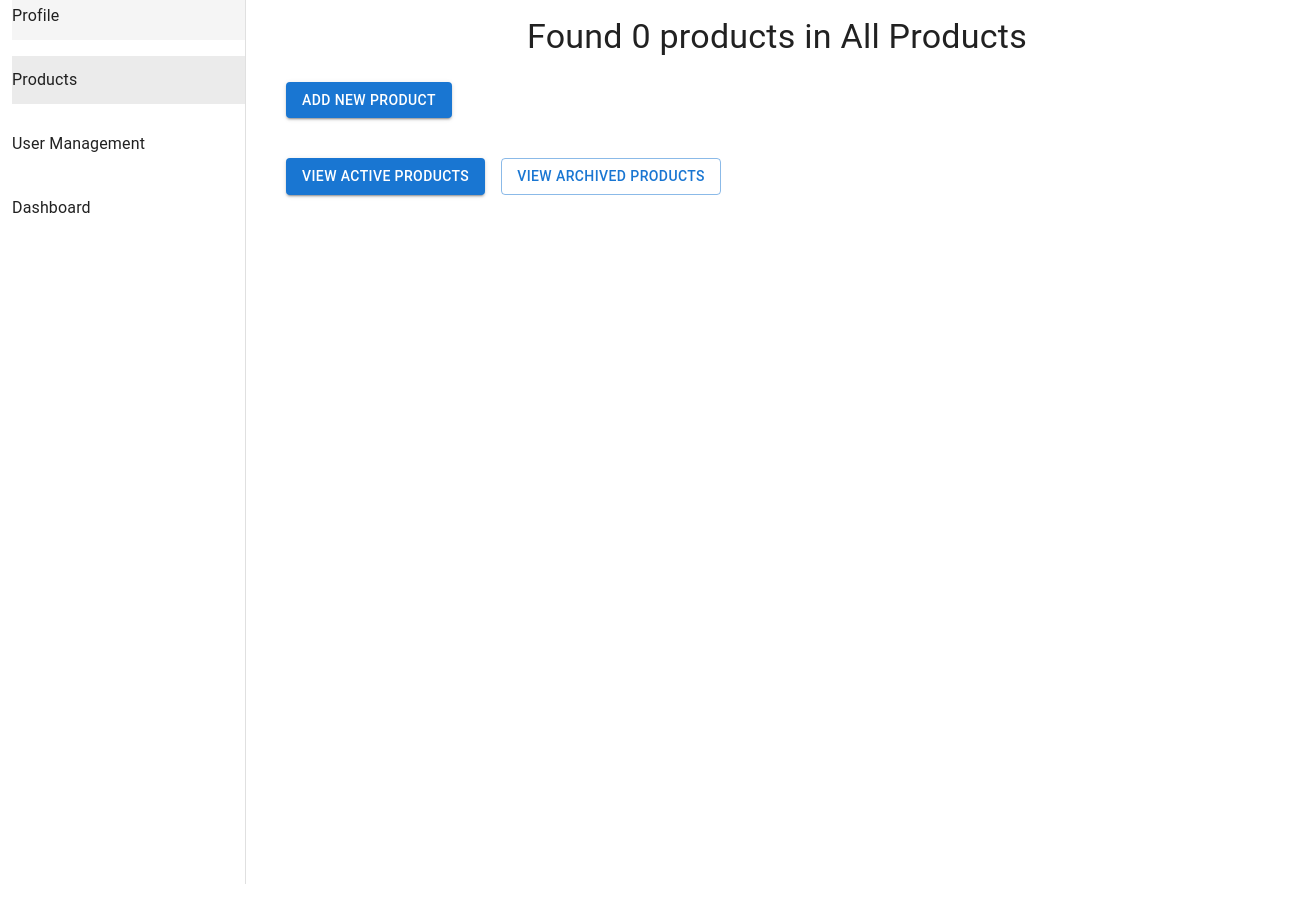
Scenario: add-product-page tests for role: admin › checks if each product type option is rendered after clicking
Click to open form
Click the button "Add New Product" at coordinates (369, 100), box [286, 82, 452, 118]
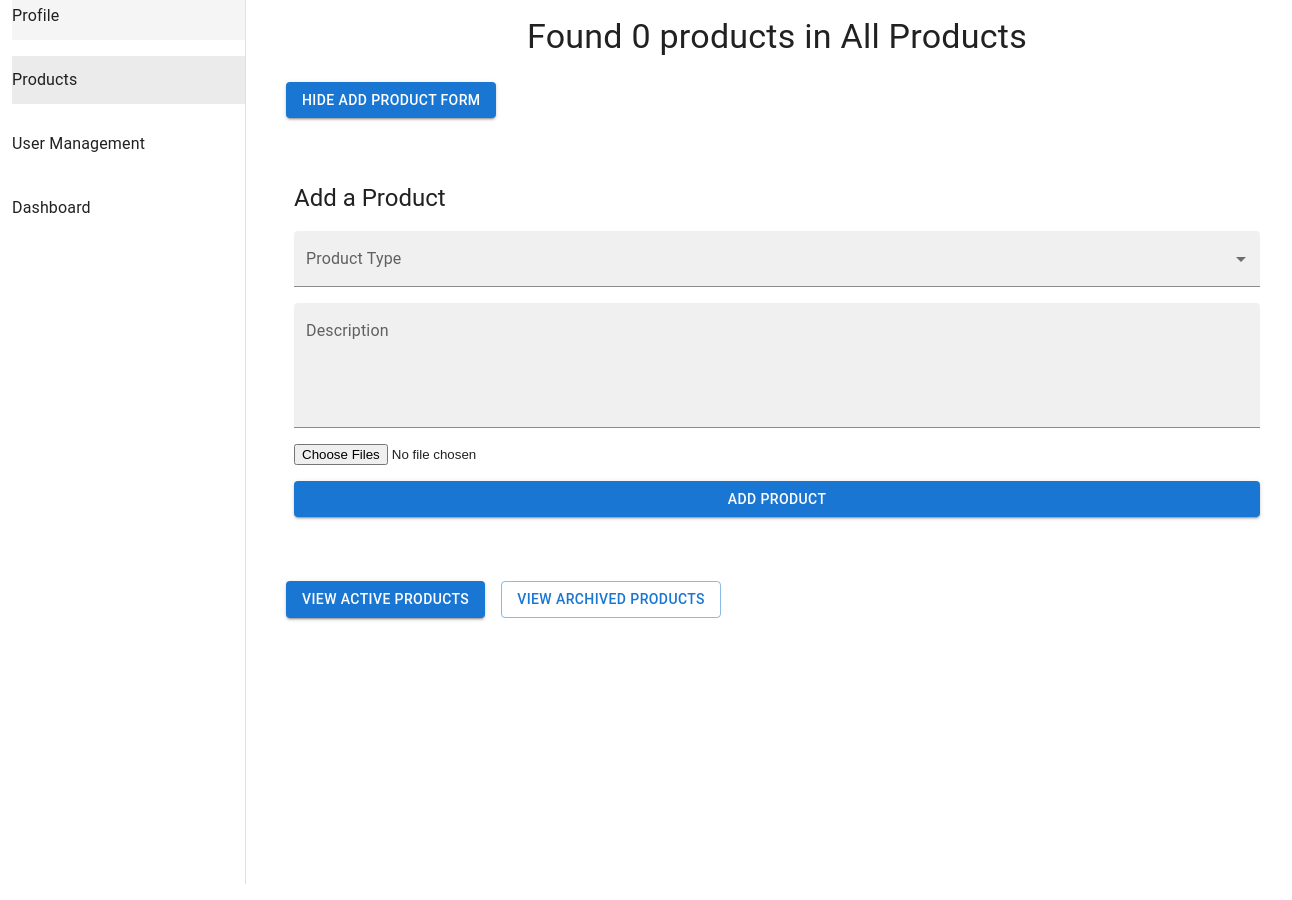
Now the dropdown is shown
Click dropdown
Press the mouse on the dropdown at coordinates (777, 258), box [294, 230, 1260, 286]
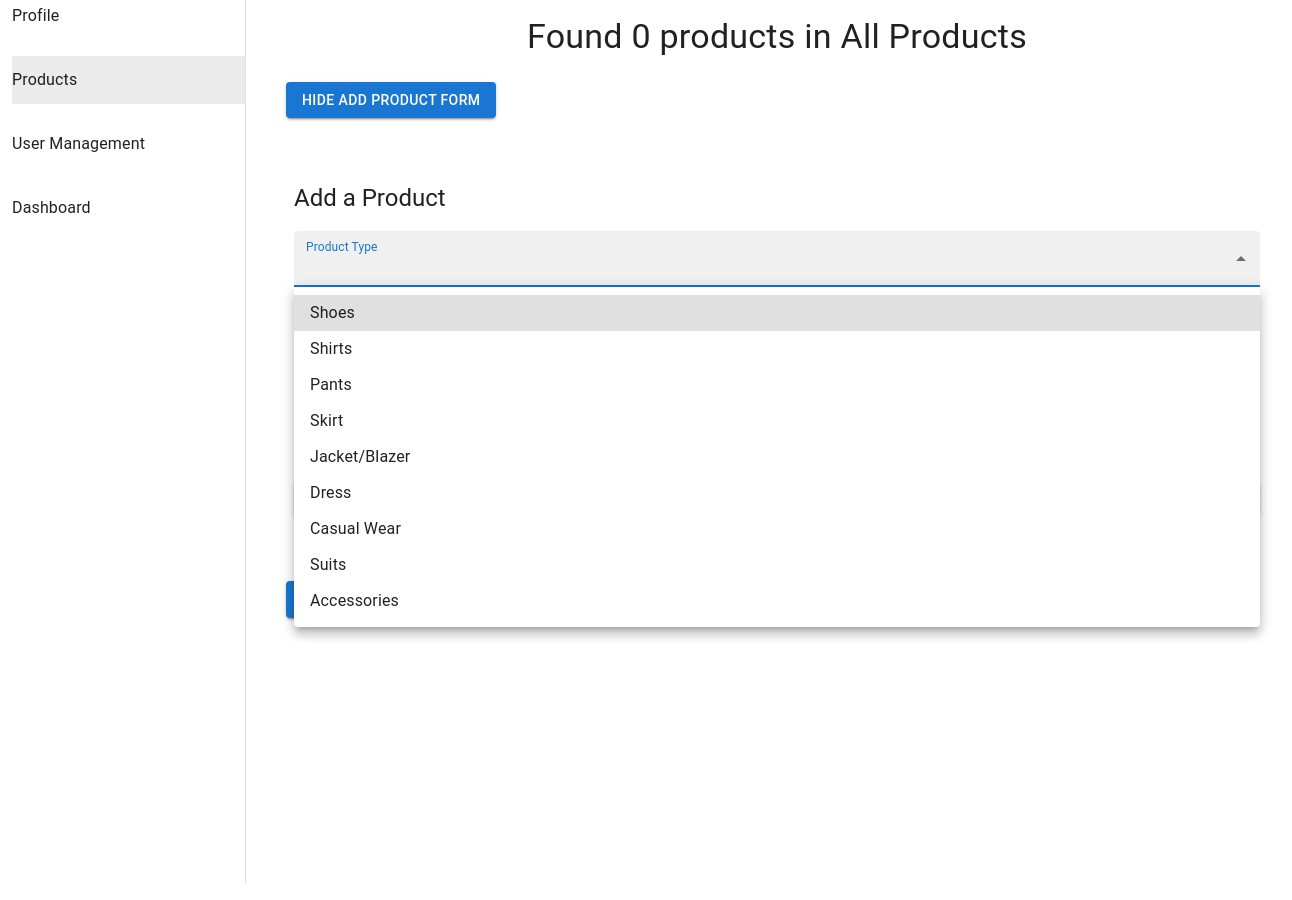
Now the option "Shoes" is shown, box [294, 295, 1260, 331]
Now the option "Shirts" is shown, box [310, 339, 352, 358]
Now the option "Pants" is shown, box [310, 375, 352, 394]
